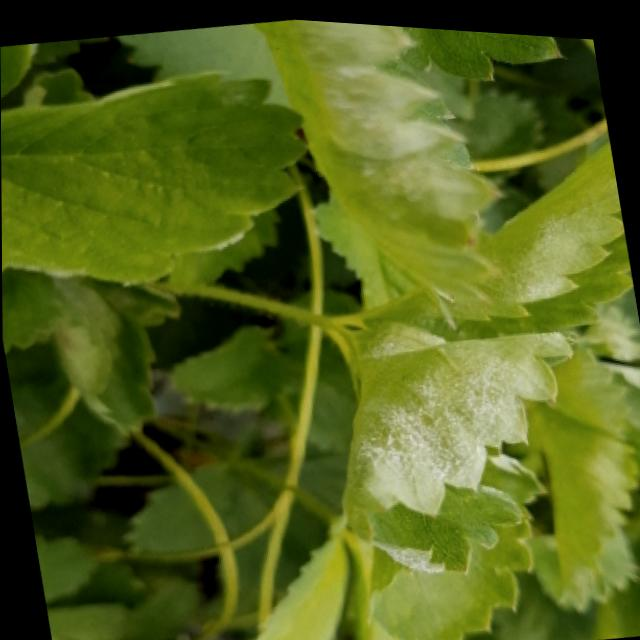Powdery Mildew Leaf: (249, 15, 501, 325), (342, 312, 574, 569), (451, 131, 634, 333), (596, 349, 640, 472)
